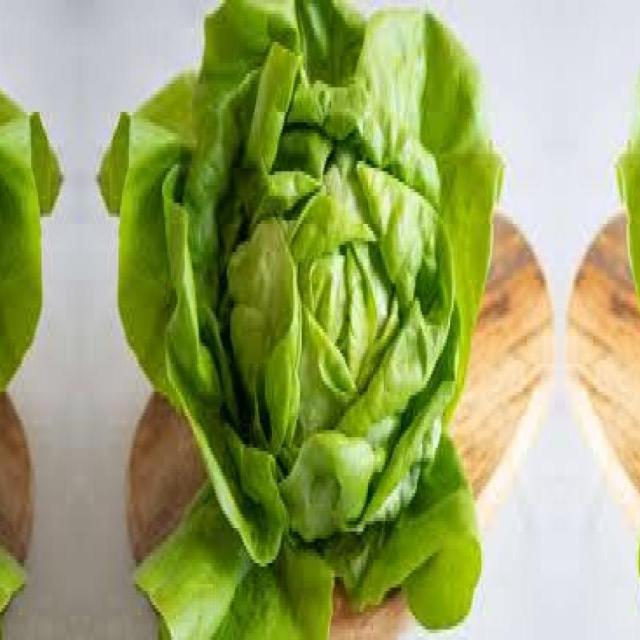healthy: (118, 0, 500, 640), (0, 0, 42, 640), (620, 0, 640, 640)
